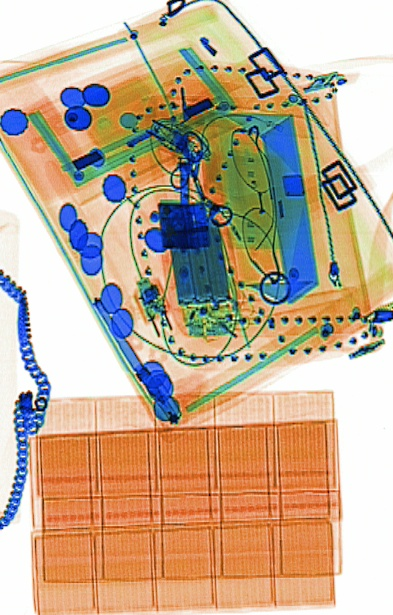powerbank: (158, 192, 240, 340)
